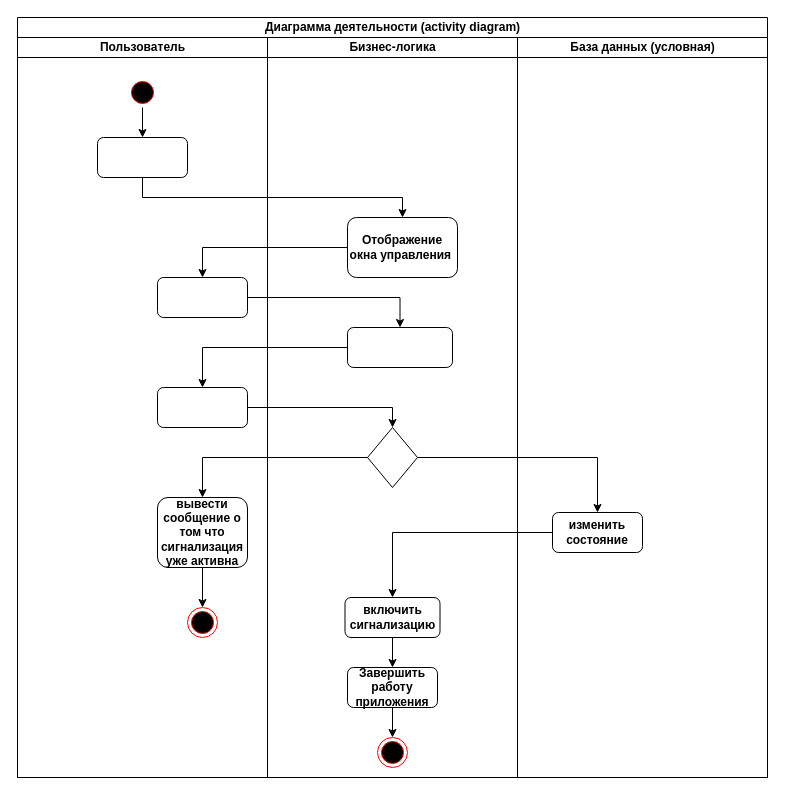
Some shapes in this 785 by 795 pixel diagram are drawn without their labels. The centre of each missing label's shape, as x and y in pixels:
"Запуск программы" goes at (x=142, y=157).
"нажать сигнализацию" goes at (x=202, y=407).
"нажать старт" goes at (x=202, y=297).
"начало работы приложения" goes at (x=399, y=347).
